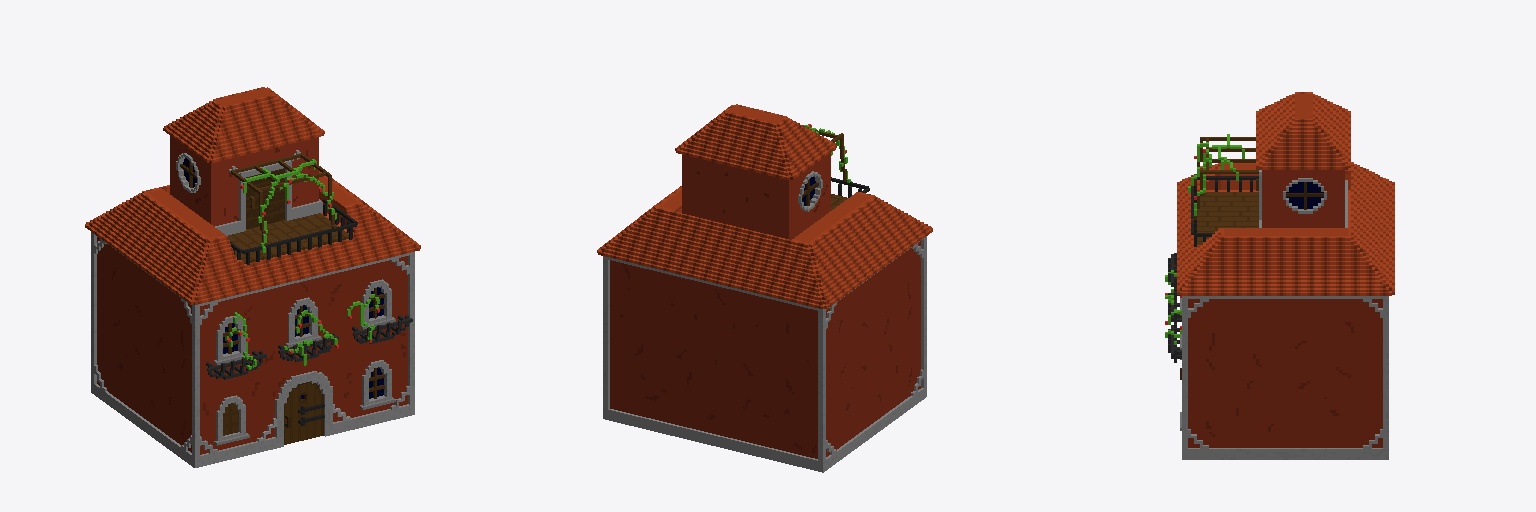
3 views of the same model, side by side, from view 1: azimuth 30°, elevation 25°; view 2: azimuth 150°, elevation 25°; view 3: azimuth 270°, elevation 25° (orthographic).
Visible parts, largest first — view 1: object 1; view 2: object 1; view 3: object 1.
Boxes of the visible parts, x1=… form: object 1: x1=85, y1=87, x2=420, y2=467; object 1: x1=597, y1=104, x2=932, y2=472; object 1: x1=1165, y1=92, x2=1394, y2=459.
Bounding box in the file's own units: 9 × 11.2 × 7.8.
Materials: 1 (1 with a texture image).